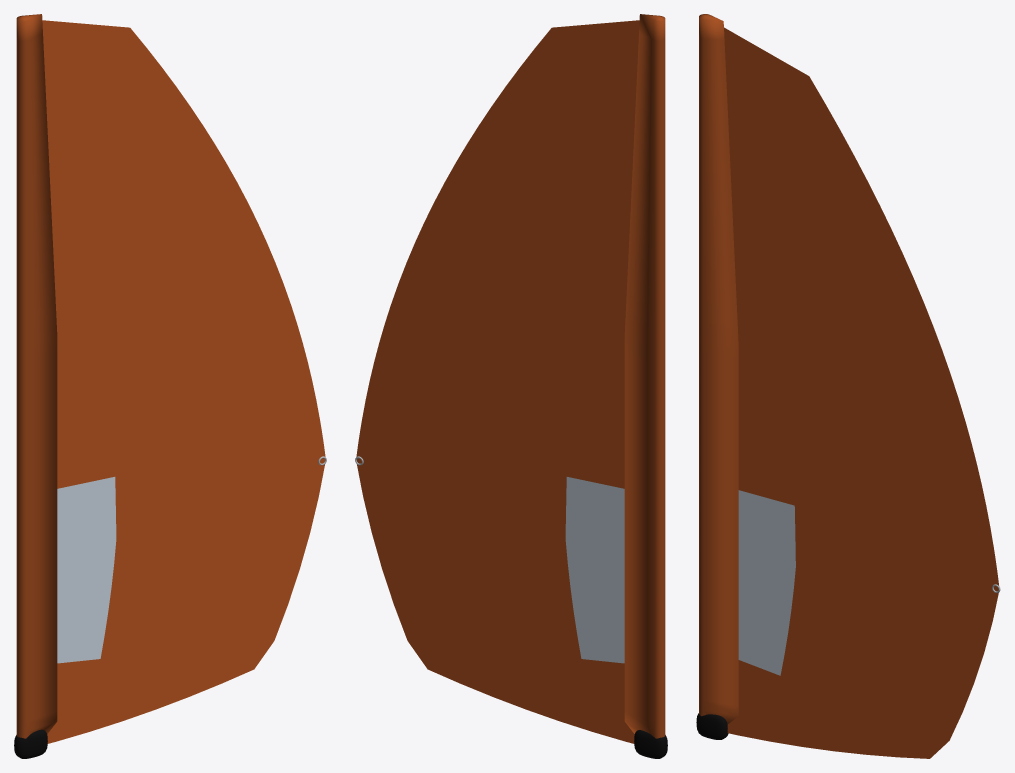
Rendered from savanna_slalom_5_5.glb.
3 renders of one model, left to right at view 1: azimuth 30°, elevation 25°; view 2: azimuth 150°, elevation 25°; view 3: azimuth 330°, elevation 25°, orthographic. The views are drawn at different scales.
Visible parts, largest first — view 1: SailCloth, TackFairing; view 2: SailCloth, TackFairing; view 3: SailCloth, TackFairing.
Part boxes in pixels (x1=…): SailCloth: x1=16, y1=14, x2=325, y2=743; TackFairing: x1=14, y1=729, x2=47, y2=758; SailCloth: x1=356, y1=14, x2=665, y2=743; TackFairing: x1=634, y1=730, x2=667, y2=758; SailCloth: x1=699, y1=14, x2=998, y2=758; TackFairing: x1=696, y1=713, x2=728, y2=739.
Bounding box in the file's own units: 1.82 × 4.15 × 0.08.
